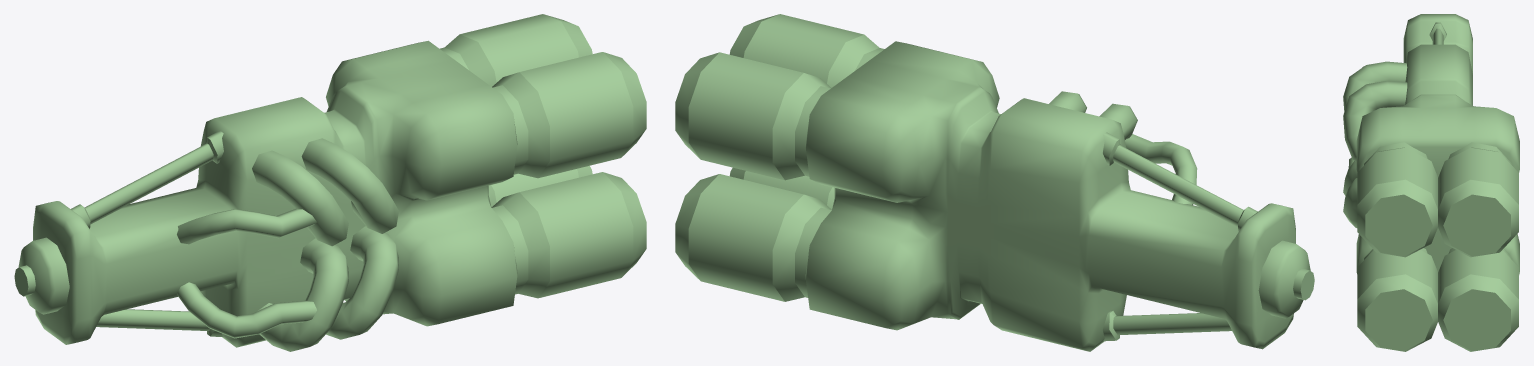
File: gun_3.FBX
3 views of the same model, side by side, from view 1: azimuth 30°, elevation 25°; view 2: azimuth 150°, elevation 25°; view 3: azimuth 270°, elevation 25° (orthographic). The views are drawn at different scales.
Parts seen in each view (by area): view 1: Box010; view 2: Box010; view 3: Box010.
Part boxes in pixels (left/top/right/bottom): Box010: left=14, top=14, right=646, bottom=351; Box010: left=675, top=14, right=1314, bottom=351; Box010: left=1343, top=14, right=1519, bottom=351.
Bounding box in the file's own units: 198 × 71.61 × 66.57.
